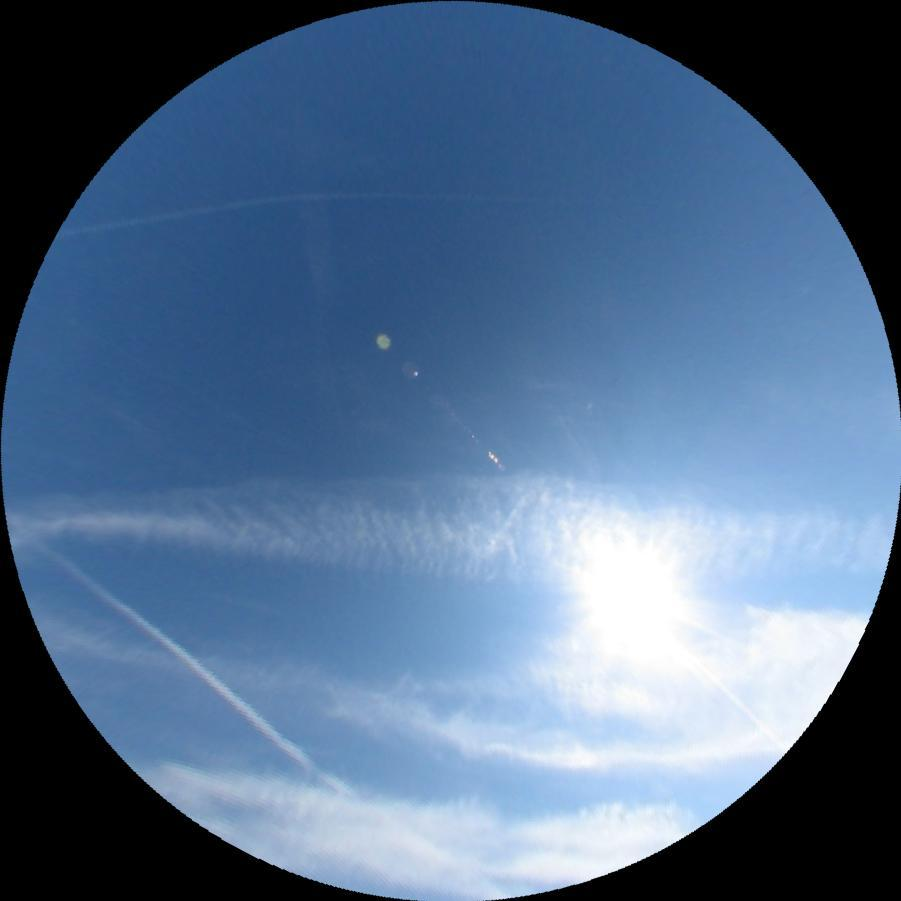contrail old: (30, 532, 370, 813)
contrail veryold: (4, 447, 897, 595)
contrail young: (53, 175, 545, 237)
parasite: (663, 630, 790, 753)
sun: (576, 543, 691, 661)
